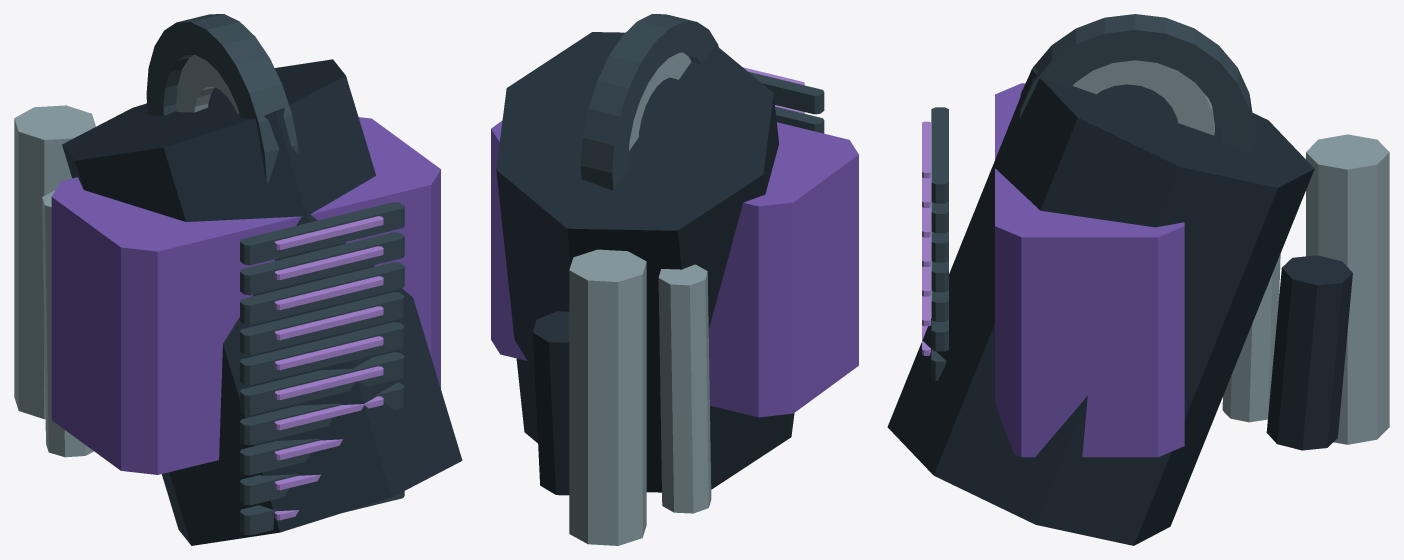
File: enemy_tank_4k_thigh_r.obj
The picture shows the model from 3 angles, left to right: view 1: azimuth 30°, elevation 25°; view 2: azimuth 150°, elevation 25°; view 3: azimuth 270°, elevation 25°; orthographic projection. The views are drawn at different scales.
Bounding box in the file's own units: 0.5035 × 0.7033 × 0.6615.
